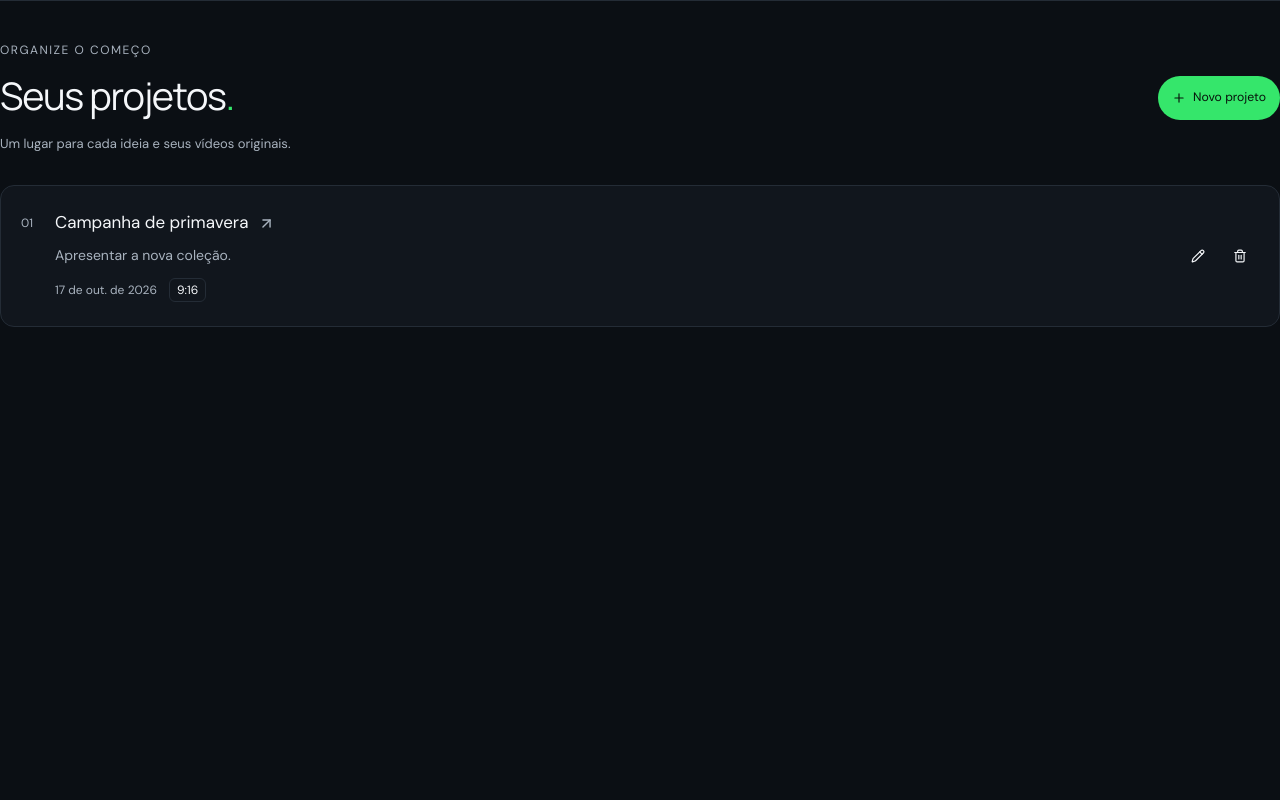
Test case: Project management › requires explicit confirmation before a soft delete and preserves the wording about originals
Click the button named "Excluir Campanha de primavera": (1240, 256) [1220,234,1259,278]
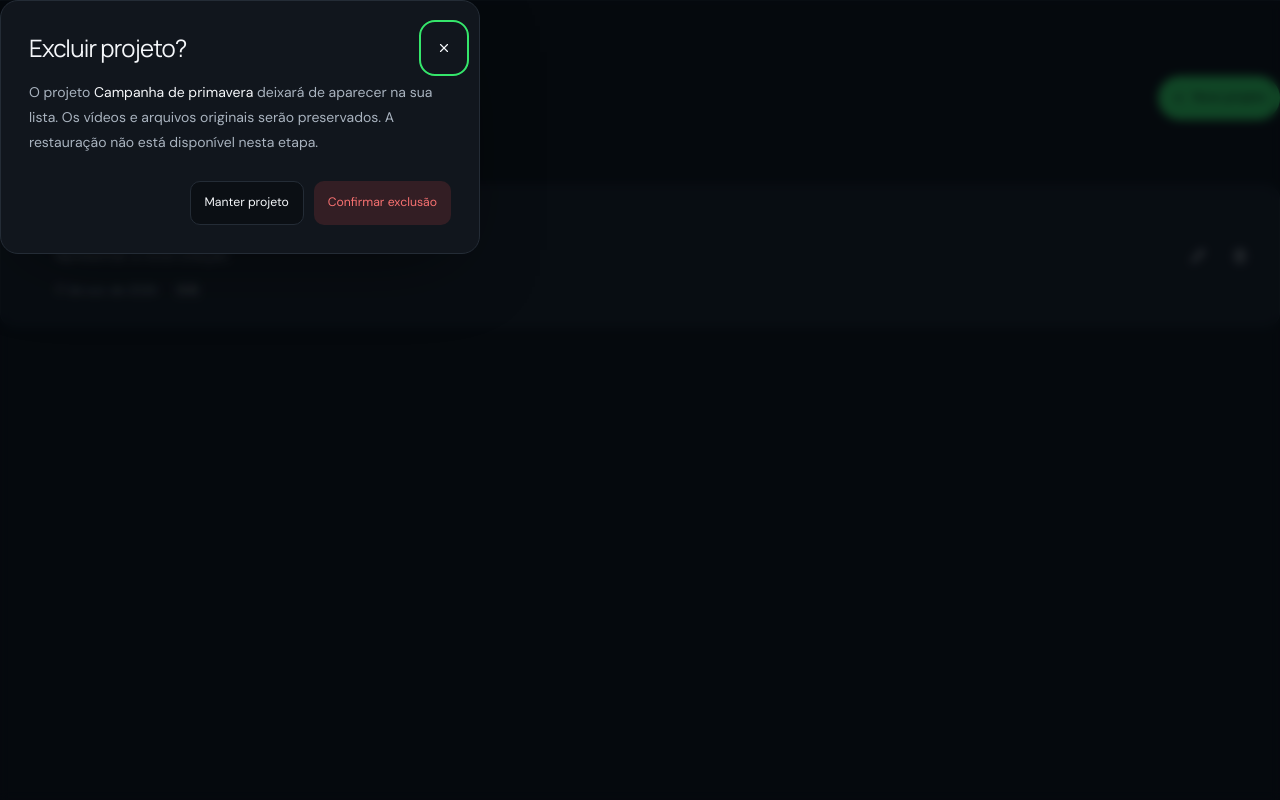
Expected: the dialog "Excluir projeto?" shows "Os vídeos e arquivos originais serão preservados", [29,83,432,151]
Click the button "Manter projeto": (247, 203) [190,181,304,225]
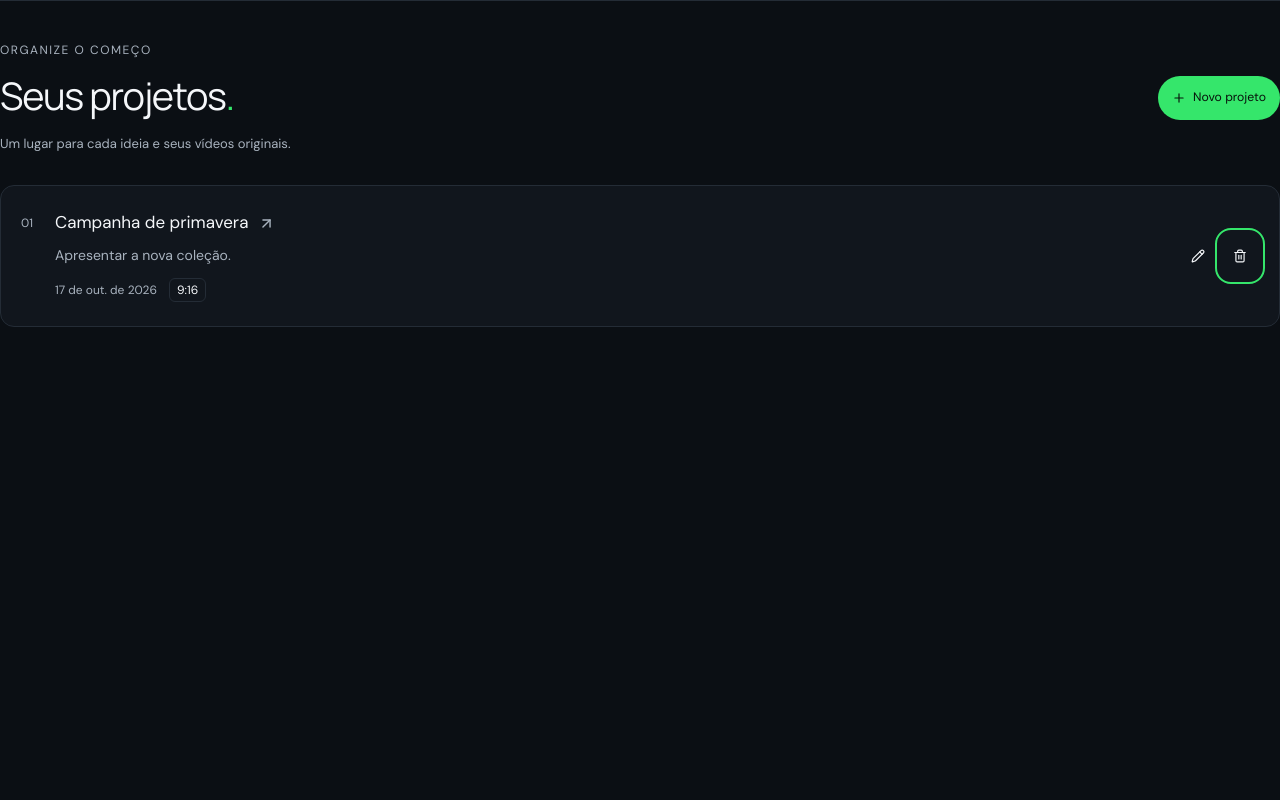
Expected: the dialog is gone
Click the button named "Excluir Campanha de primavera": (1240, 256) [1220,234,1259,278]
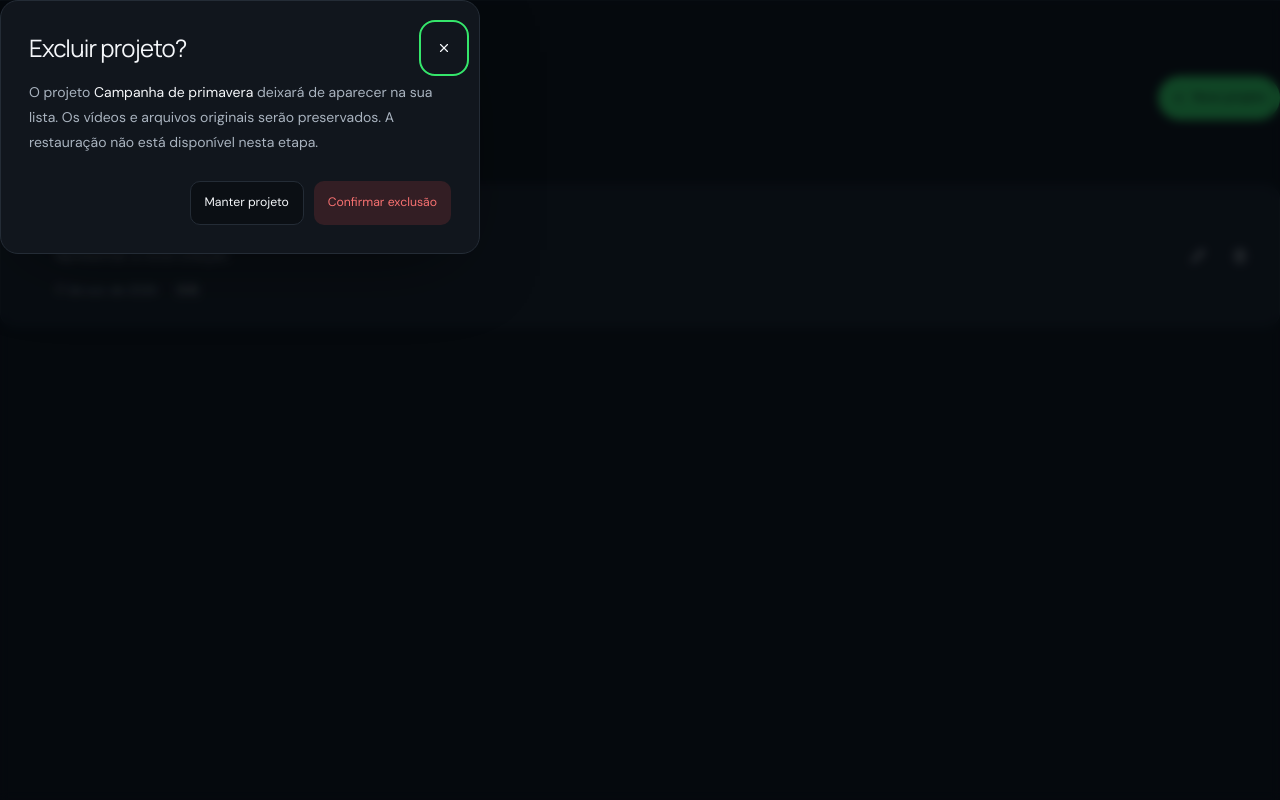
Click the button "Confirmar exclusão": (382, 203) [314,181,451,225]
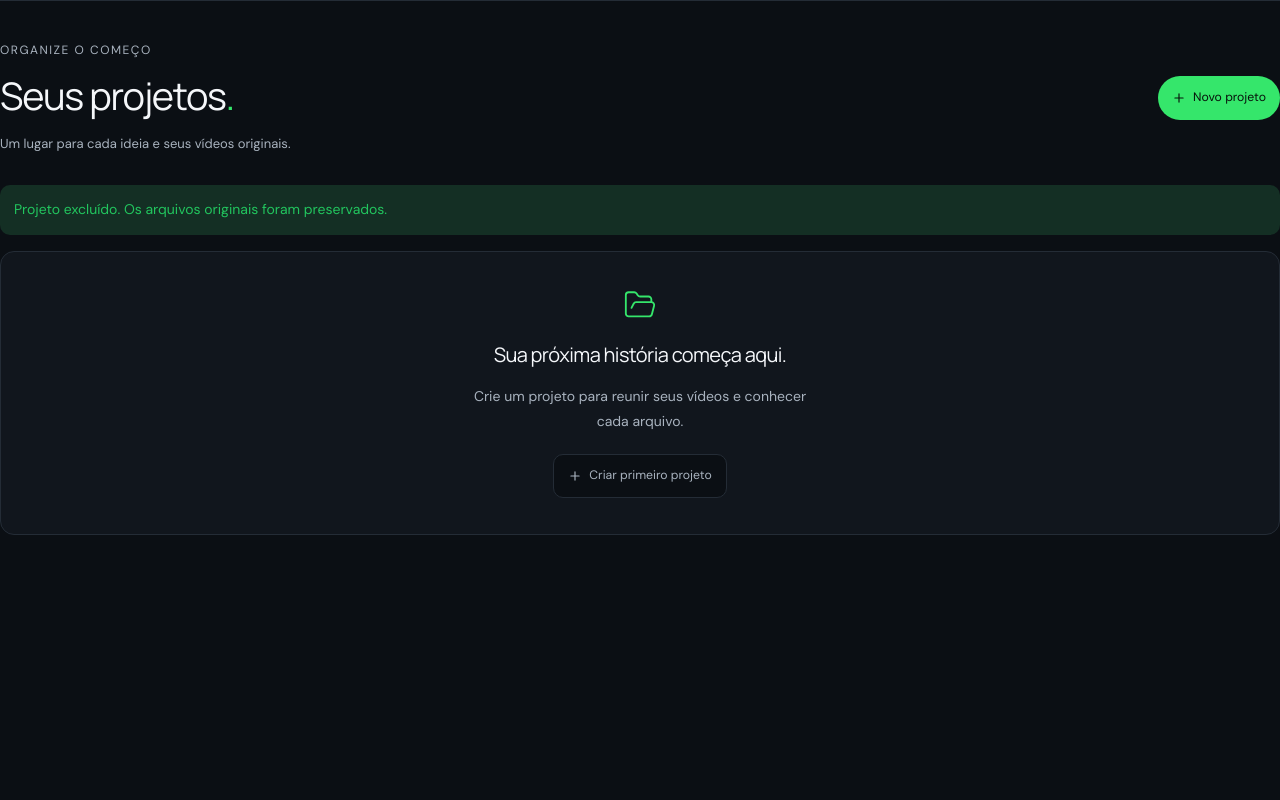
Expected: the heading "Sua próxima história começa aqui." is shown, [494,340,786,370]
Expected: the text "Projeto excluído. Os arquivos originais foram preservados." is shown, [0,186,1279,235]
